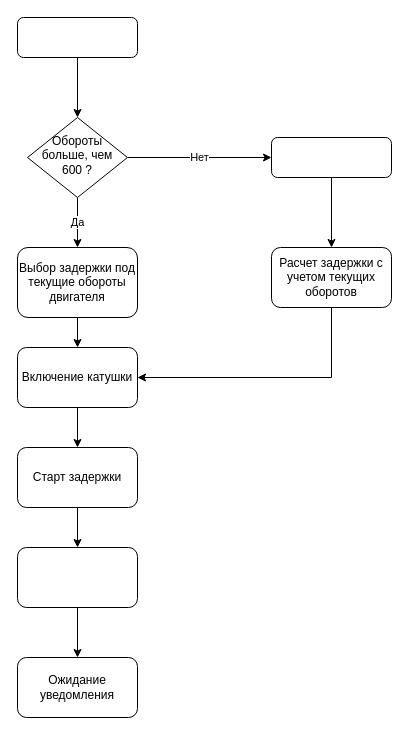
This 409x735 diagram has some shape labels left out. The box of each missing label's shape, as (x1, y1, x2, y2) in pixels:
Выключение катушки: (16, 546, 138, 608)
Режим зажигания в ВМТ: (270, 136, 392, 178)
Управление передано задаче: (16, 16, 138, 58)
